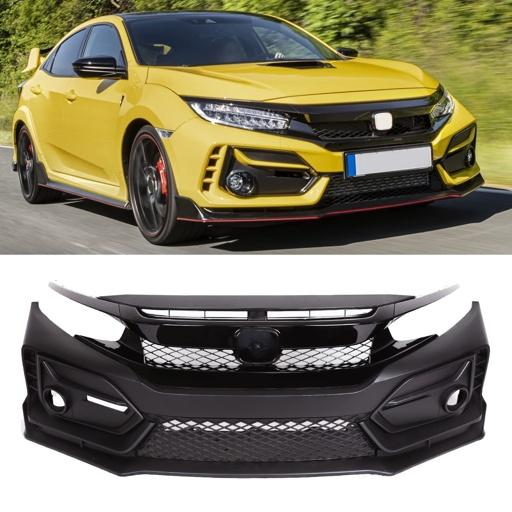car: (22, 282, 487, 476), (109, 317, 115, 322), (96, 317, 101, 323), (435, 309, 438, 310), (111, 330, 112, 332)
hatchback: (12, 12, 482, 243)
